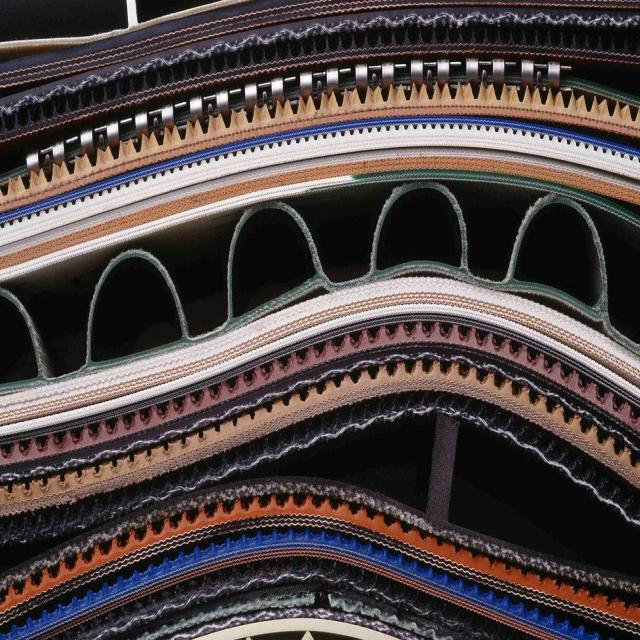broyeur: (0, 167, 640, 393), (3, 1, 640, 148), (0, 497, 640, 640)
